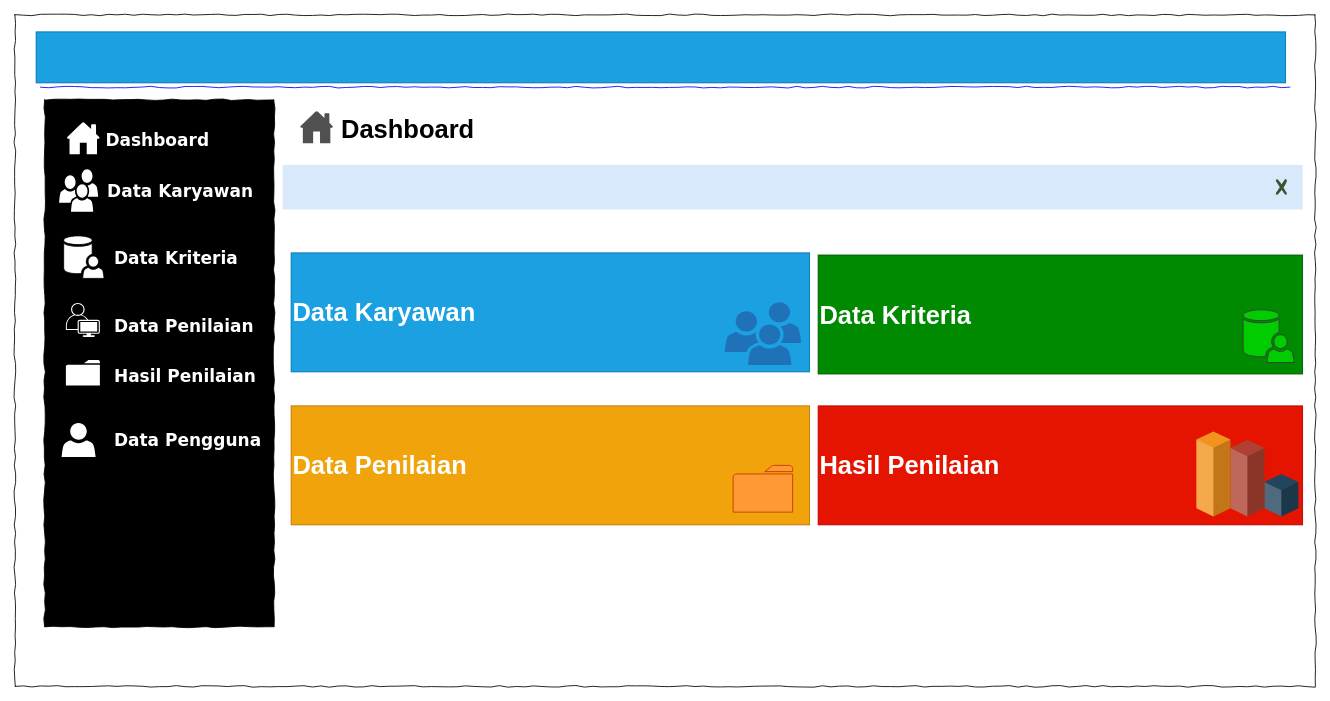
This 1330x701 diagram has some shape labels left out. Here are the shapes that lost their labels. From the top down, the centre of each, then its label:
At [660,57]: "SPK Pemilihan Karyawan Terbaik".
At [792,186]: "Selamat datang admin pada halaman administrator".
